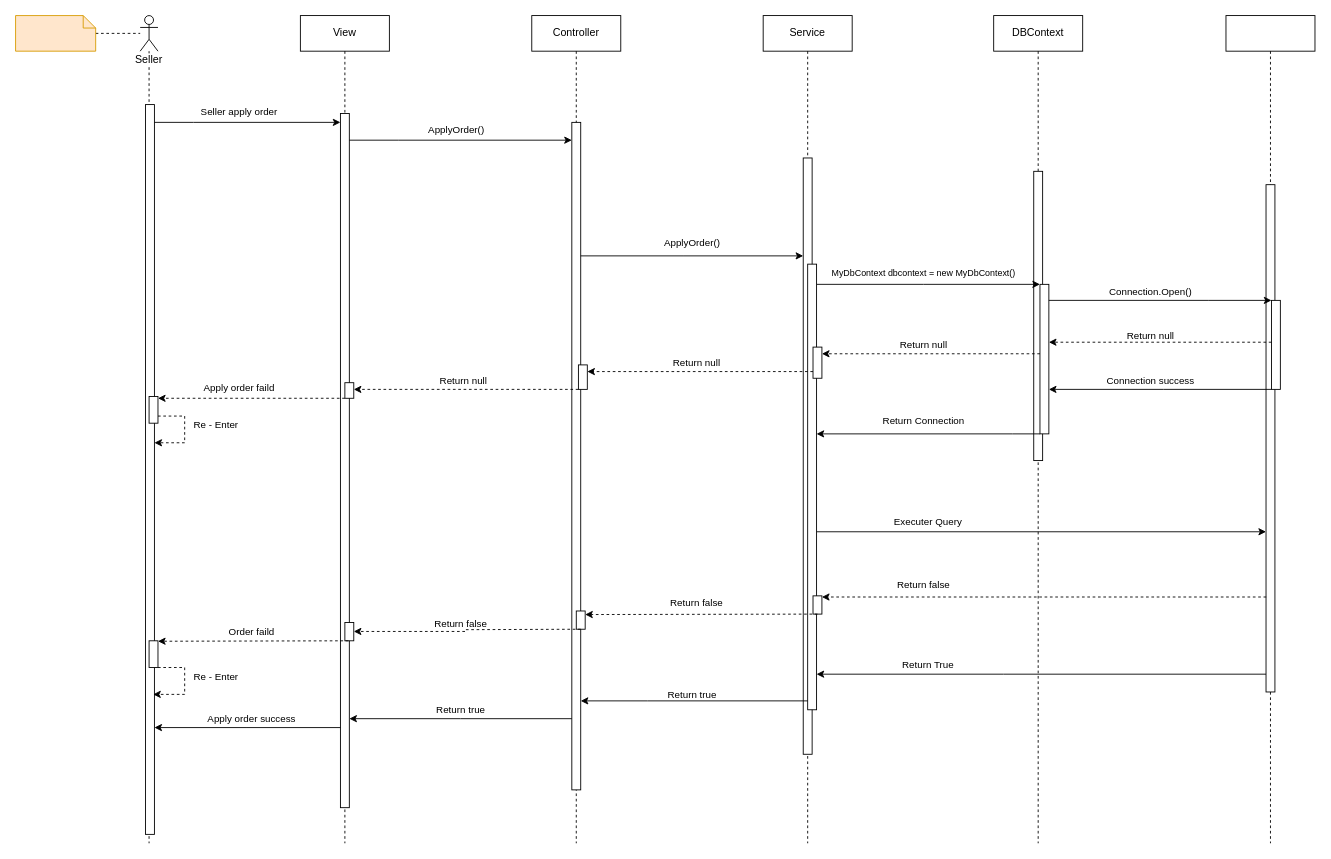
This 1331x859 diagram has some shape labels left out. Here are the shapes that lost their labels. From the top down, the box of each, then its label:
(15, 15, 96, 51): Seller login to the system
(1225, 15, 1315, 843): Database
